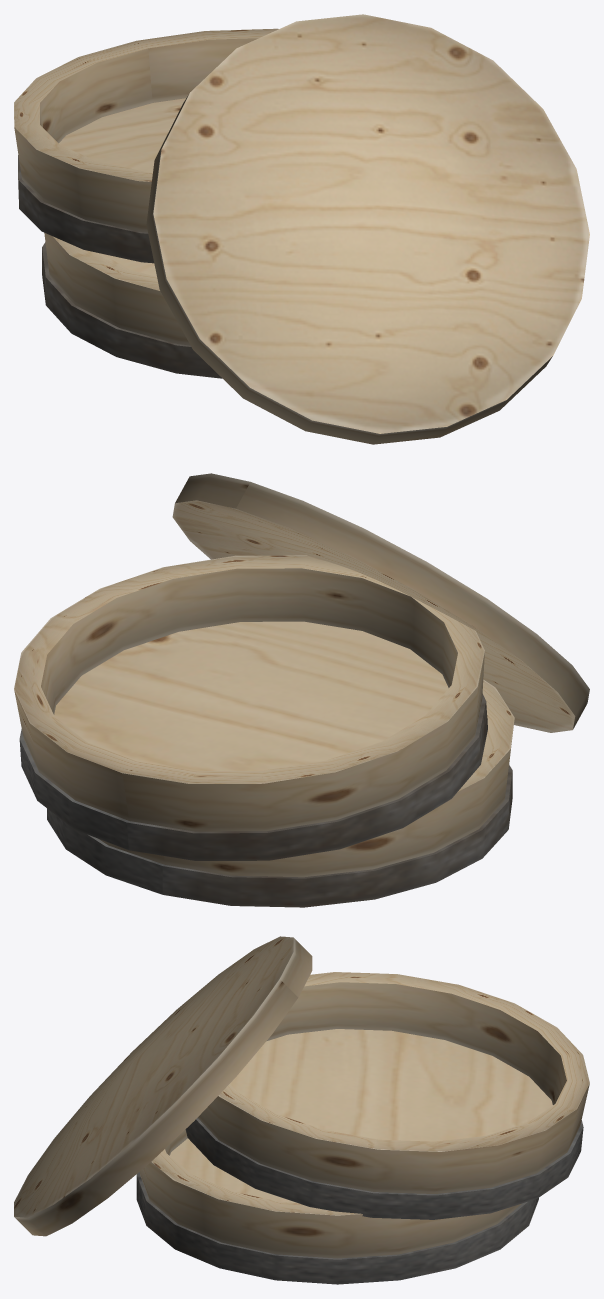
File: RiceBucket04.fbx
The picture shows the model from 3 angles, top to bottom: view 1: azimuth 30°, elevation 25°; view 2: azimuth 150°, elevation 25°; view 3: azimuth 270°, elevation 25°; orthographic projection. The views are drawn at different scales.
Visible parts, largest first — view 1: RiceBucket04; view 2: RiceBucket04; view 3: RiceBucket04.
Boxes of the visible parts, x1,y1,x2,y2 form: RiceBucket04: [14, 14, 589, 444]; RiceBucket04: [14, 473, 589, 907]; RiceBucket04: [14, 936, 589, 1284].
Bounding box in the file's own units: 37.36 × 27.4 × 52.89.
